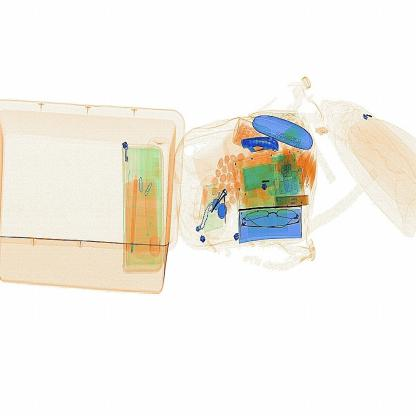knife: (236, 123, 286, 164)
